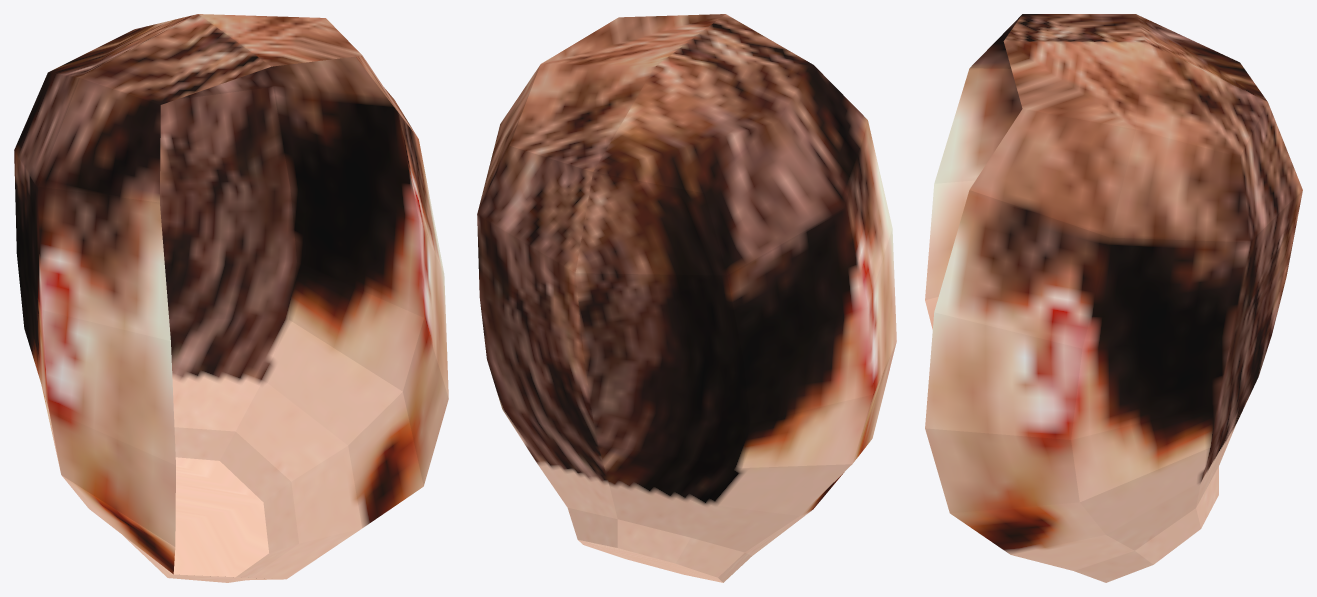
The model's file is Head.glb.
3 renders of one model, left to right at view 1: azimuth 30°, elevation 25°; view 2: azimuth 150°, elevation 25°; view 3: azimuth 270°, elevation 25°, orthographic. The views are drawn at different scales.
Visible parts, largest first — view 1: TestNCP1.008; view 2: TestNCP1.008; view 3: TestNCP1.008.
Part boxes in pixels (x1,y1,x2,y2): TestNCP1.008: [14, 14, 448, 582]; TestNCP1.008: [477, 14, 896, 582]; TestNCP1.008: [925, 14, 1302, 582].
Bounding box in the file's own units: 19.58 × 27.29 × 17.7.
1 material, 1 textured.
